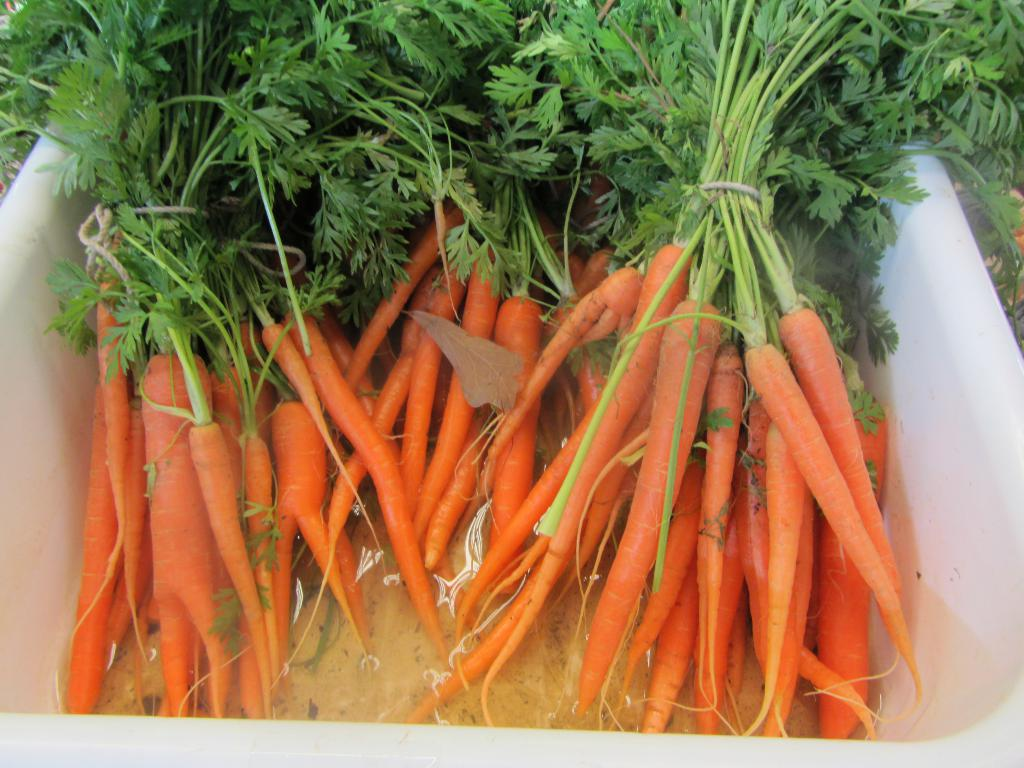Carrot: (0, 0, 1024, 740)
